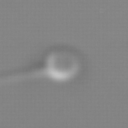normal: (1, 64, 48, 86)
